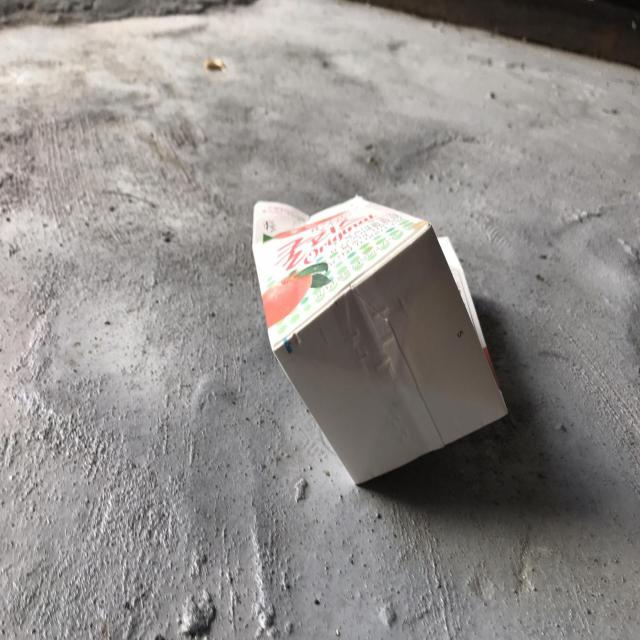paperpack: (253, 196, 508, 484)
